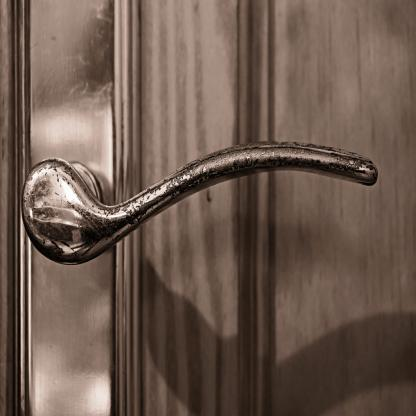door: (14, 0, 415, 415)
lever: (22, 140, 379, 264)
